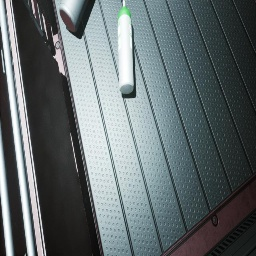0: (118, 0, 134, 94)
NitrogenTank ,: (59, 0, 88, 33)
